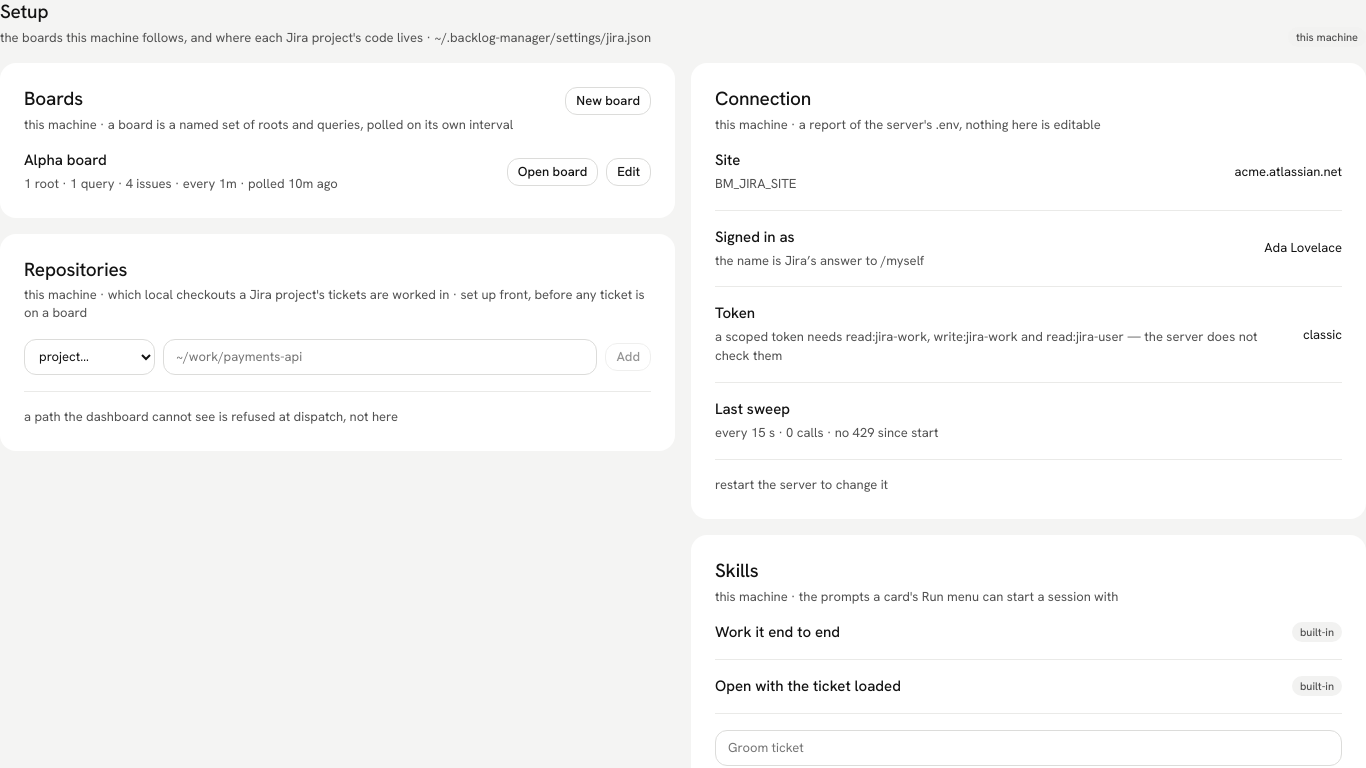
Test: the board sheet — new › `+ Unresolved in a project…` reveals a project Select, and picking PAY adds `Unresolved in PAY`
The width and height of the screenshot is (1366, 768).
Expected: the heading "Boards" is shown, [24,86,83,111]
Click the button "New board" at (608, 101), box [565,87,651,115]
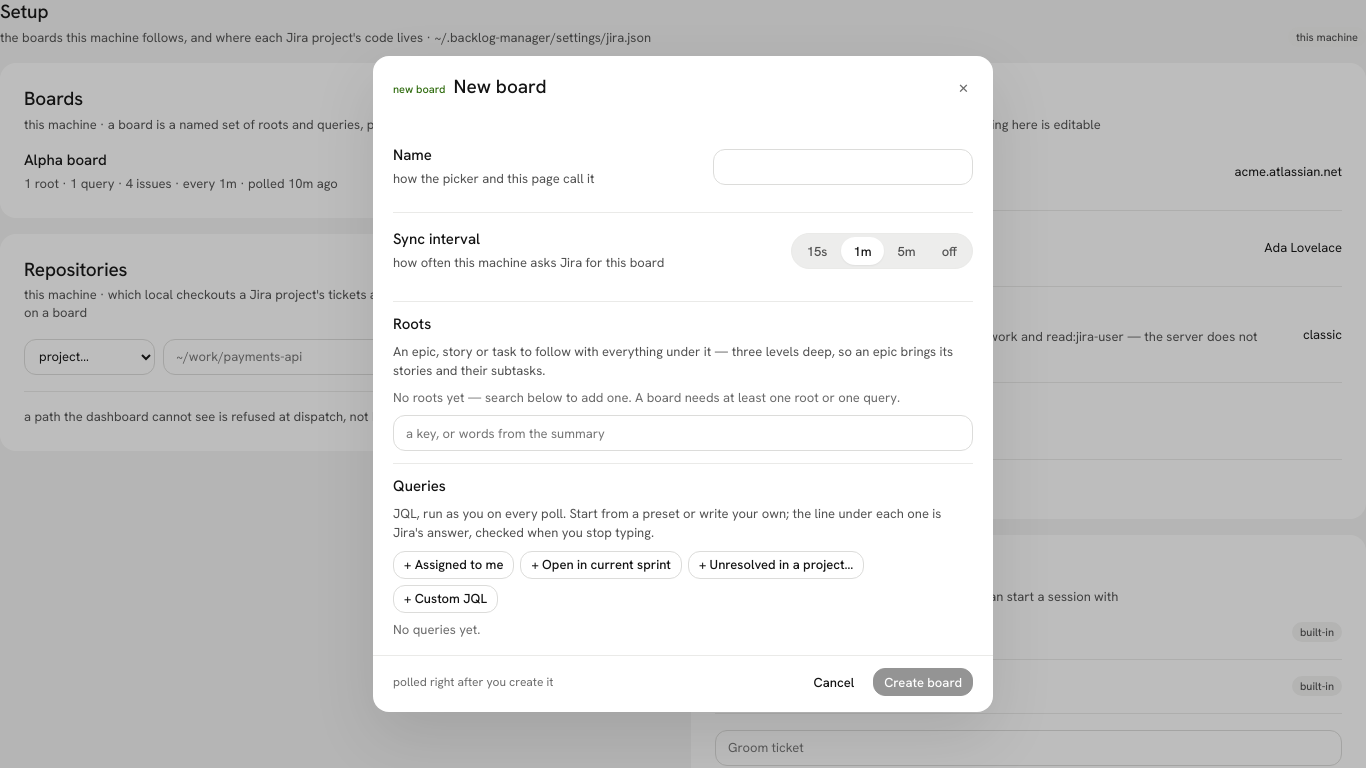
Click the button "+ Unresolved in a project…" at (776, 565), box [688,551,864,579]
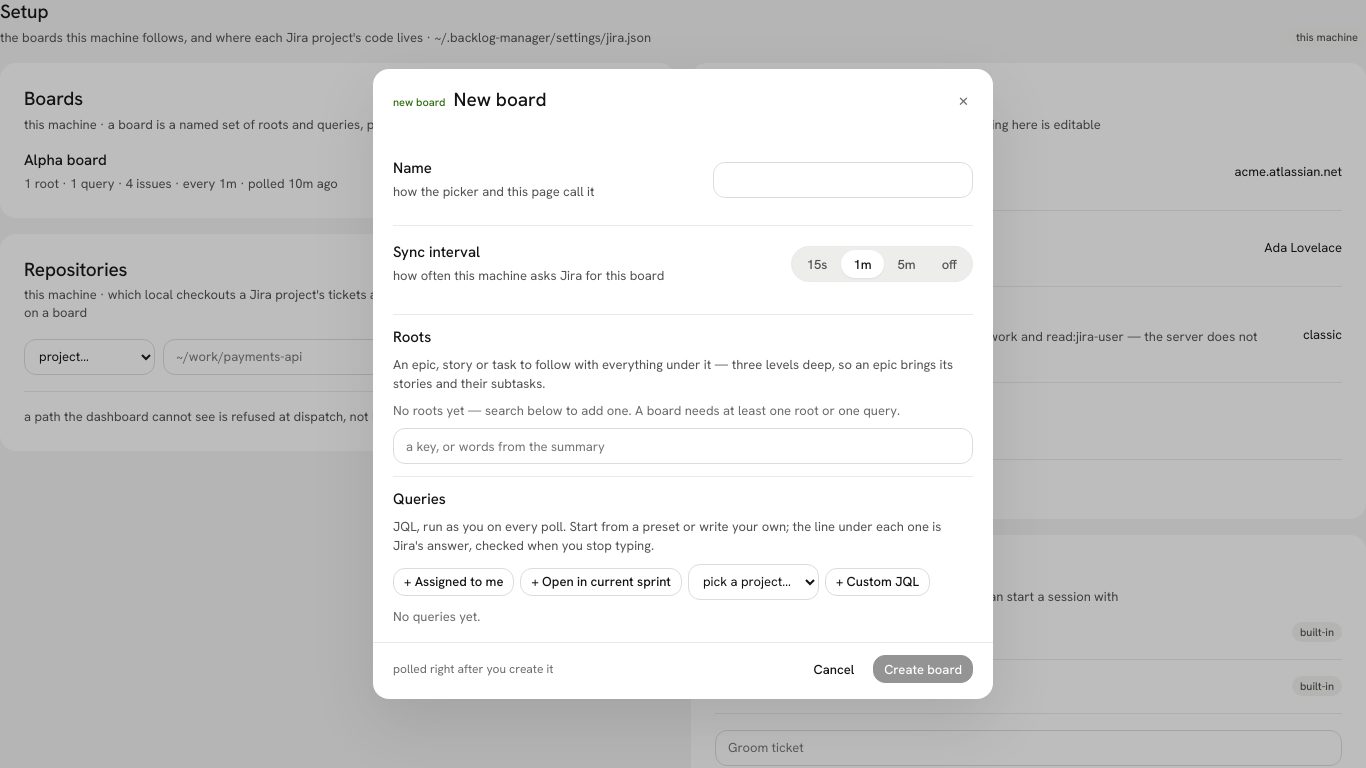
Select "PAY · Payments" in the dropdown named "Project" at (753, 582), box [688,564,819,600]
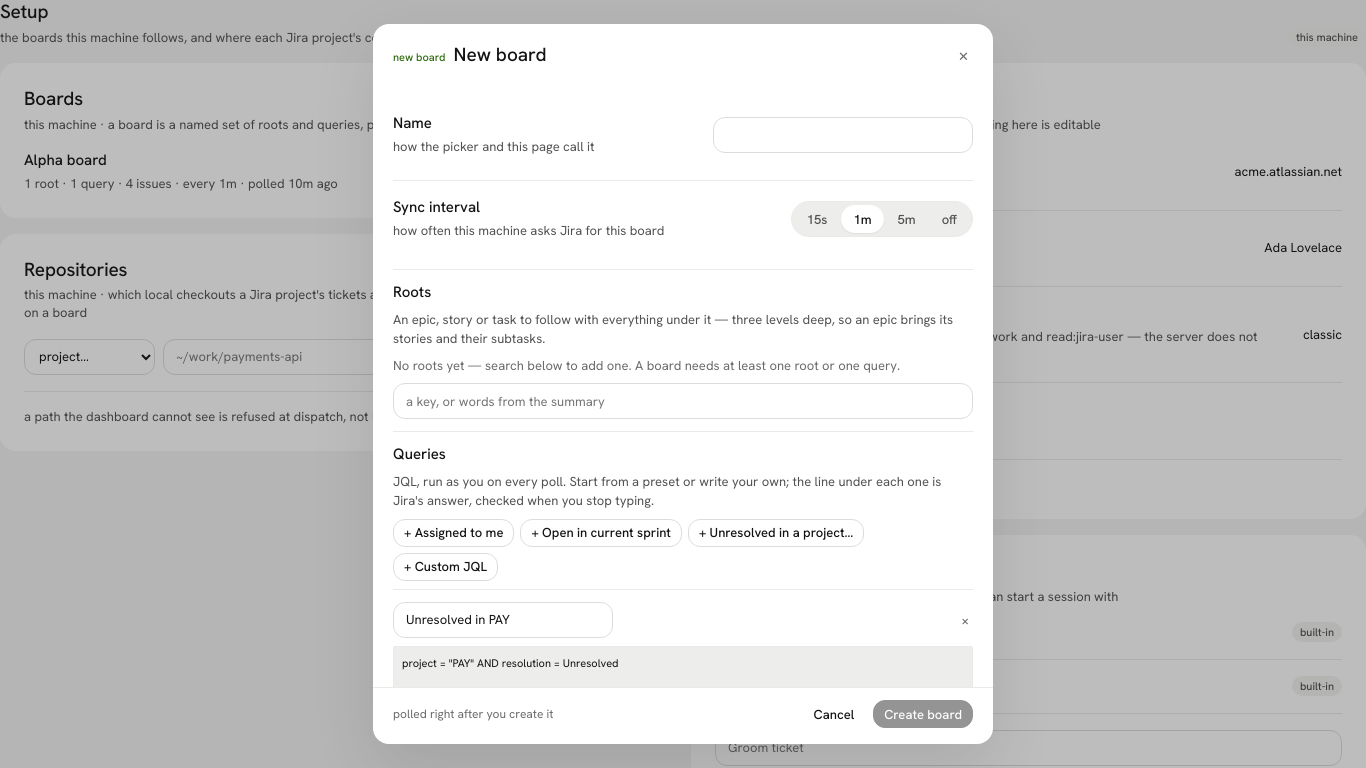
Expected: the field named "Query label" holds "Unresolved in PAY", [393,602,613,638]
Expected: the text box named "JQL" holds "project = \"PAY\" AND resolution = Unresolved", [393,646,973,687]
